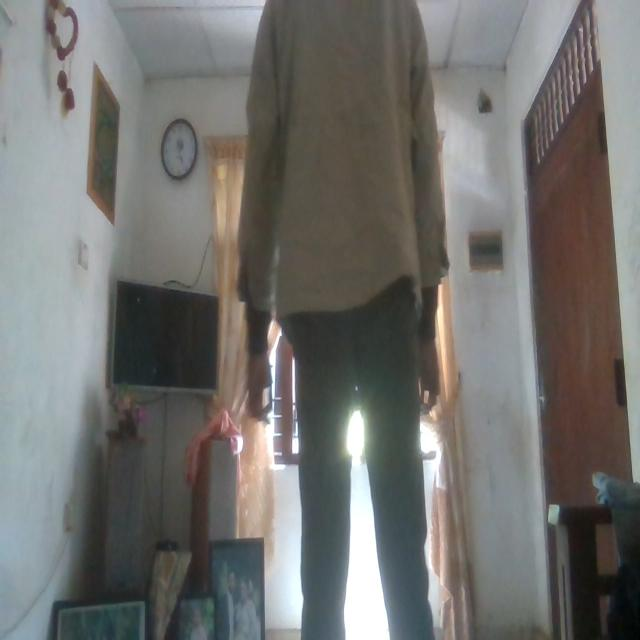Jacket_Wearer: (240, 0, 450, 332)
Person: (233, 0, 449, 640)
